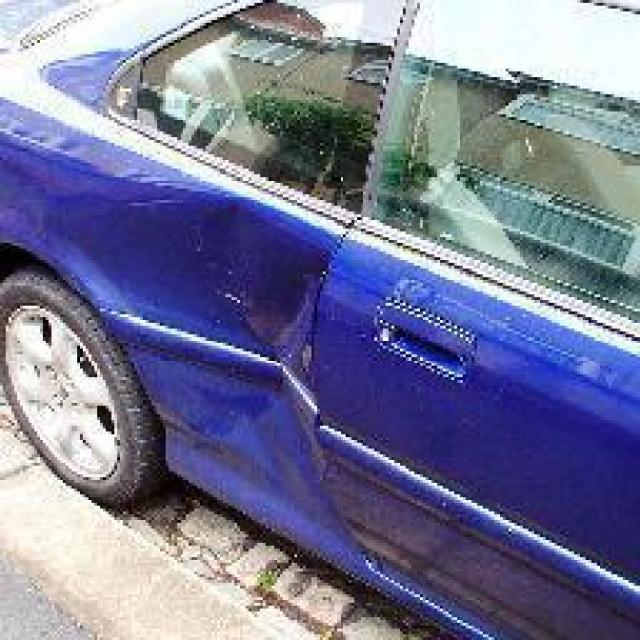damaged: (57, 197, 372, 572)
